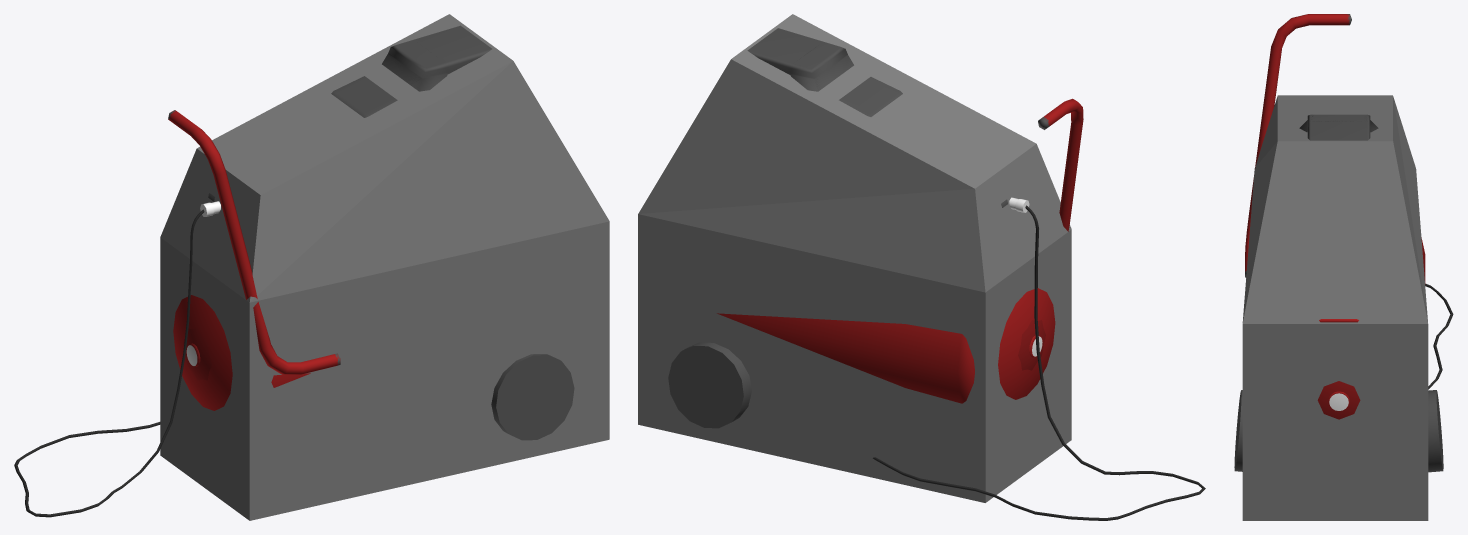
Rendered from s_compressor_01.dae.
3 views of the same model, side by side, from view 1: azimuth 30°, elevation 25°; view 2: azimuth 150°, elevation 25°; view 3: azimuth 270°, elevation 25° (orthographic). The views are drawn at different scales.
Parts seen in each view (by area): view 1: Colmesh_s_compressor_01-1, s_compressor_01_L200, s_compressor_01_L50, s_compressor_01_L20; view 2: Colmesh_s_compressor_01-1, s_compressor_01_L200, s_compressor_01_L50, s_compressor_01_L20; view 3: Colmesh_s_compressor_01-1, s_compressor_01_L200, s_compressor_01_L20, s_compressor_01_L50.
Boxes of the visible parts, <box> form: Colmesh_s_compressor_01-1: <box>160,14,609,520</box>; s_compressor_01_L200: <box>14,25,574,517</box>; s_compressor_01_L50: <box>168,101,574,439</box>; s_compressor_01_L20: <box>183,50,573,439</box>; Colmesh_s_compressor_01-1: <box>638,14,1071,502</box>; s_compressor_01_L200: <box>668,28,1205,520</box>; s_compressor_01_L50: <box>668,101,1070,427</box>; s_compressor_01_L20: <box>669,45,1045,427</box>; Colmesh_s_compressor_01-1: <box>1242,95,1428,520</box>; s_compressor_01_L200: <box>1234,14,1453,472</box>; s_compressor_01_L20: <box>1234,115,1443,467</box>; s_compressor_01_L50: <box>1234,14,1443,468</box>.
Bounding box in the file's own units: 0.9053 × 0.3548 × 0.6183.
